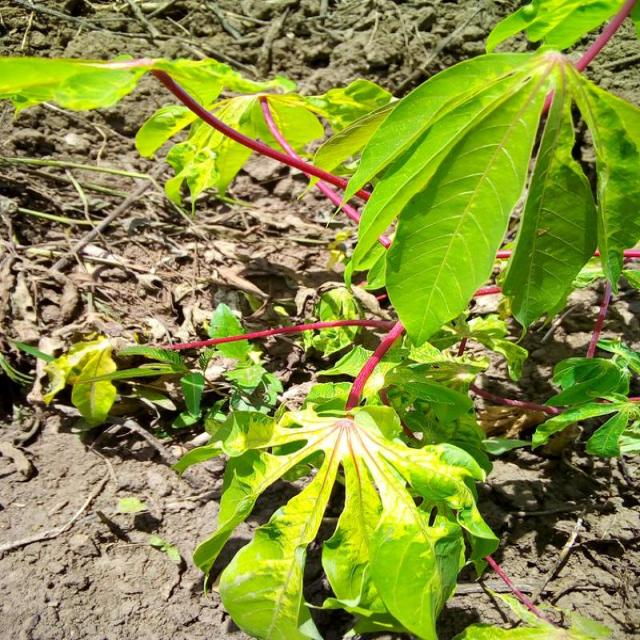cassava leaf: (1, 3, 638, 638), (191, 380, 498, 638)
